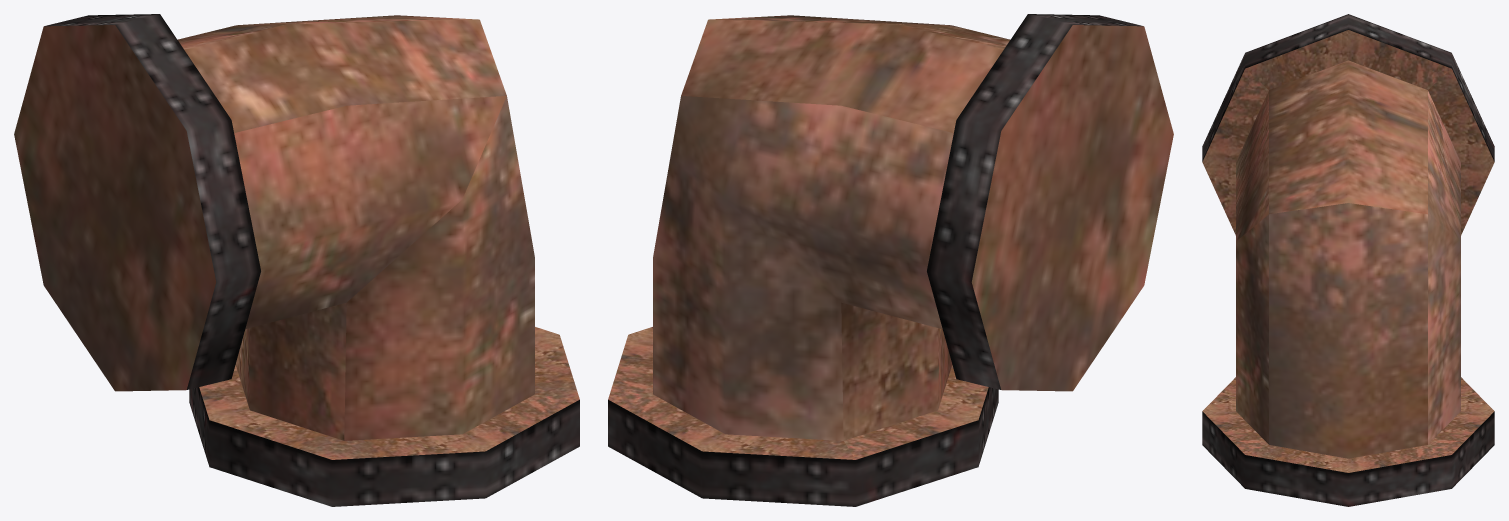
File: pipeknee.glb
The picture shows the model from 3 angles, left to right: view 1: azimuth 30°, elevation 25°; view 2: azimuth 150°, elevation 25°; view 3: azimuth 270°, elevation 25°; orthographic projection. The views are drawn at different scales.
Parts seen in each view (by area): view 1: Elbow_Joint_90.006_Tubes_0; view 2: Elbow_Joint_90.006_Tubes_0; view 3: Elbow_Joint_90.006_Tubes_0.
Boxes of the visible parts, bbox=[...] form: Elbow_Joint_90.006_Tubes_0: bbox=[14, 14, 579, 506]; Elbow_Joint_90.006_Tubes_0: bbox=[608, 14, 1173, 506]; Elbow_Joint_90.006_Tubes_0: bbox=[1202, 14, 1494, 506].
Size of the model in its own units: 0.6883 by 0.6883 by 0.5423.
1 material, 1 textured.
